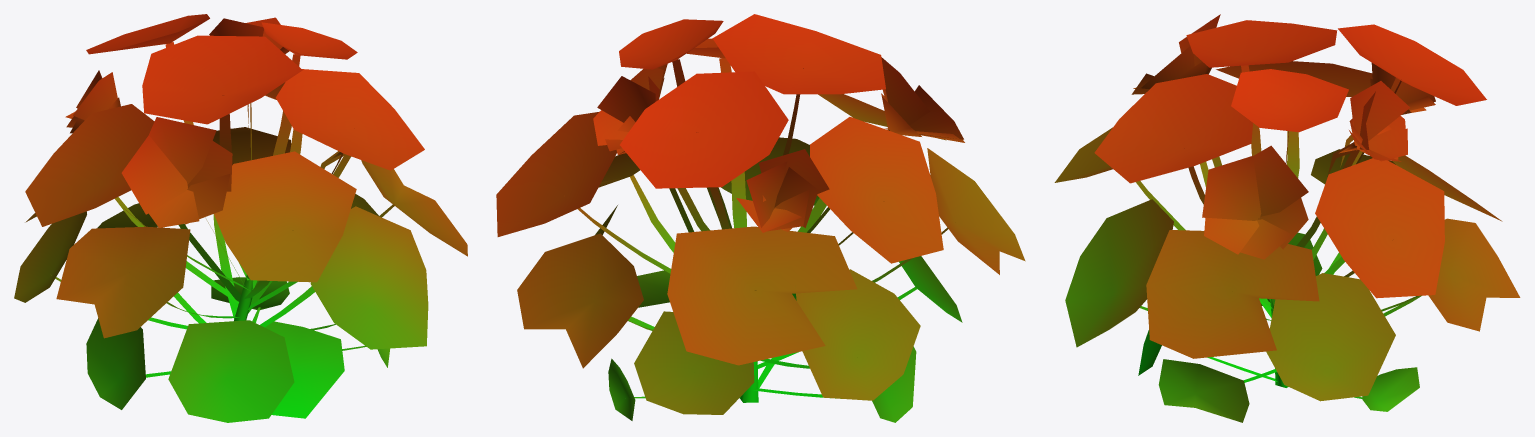
The model's file is Var11_LOD0.fbx.
3 renders of one model, left to right at view 1: azimuth 30°, elevation 25°; view 2: azimuth 150°, elevation 25°; view 3: azimuth 270°, elevation 25°, orthographic. The views are drawn at different scales.
Visible parts, largest first — view 1: _a6c4_Var11_LOD0; view 2: _a6c4_Var11_LOD0; view 3: _a6c4_Var11_LOD0.
Boxes of the visible parts, x1,y1,x2,y2 form: _a6c4_Var11_LOD0: (14,14,467,422); _a6c4_Var11_LOD0: (496,14,1025,422); _a6c4_Var11_LOD0: (1054,14,1520,422).
Bounding box in the file's own units: 26.86 × 21.18 × 26.23.
